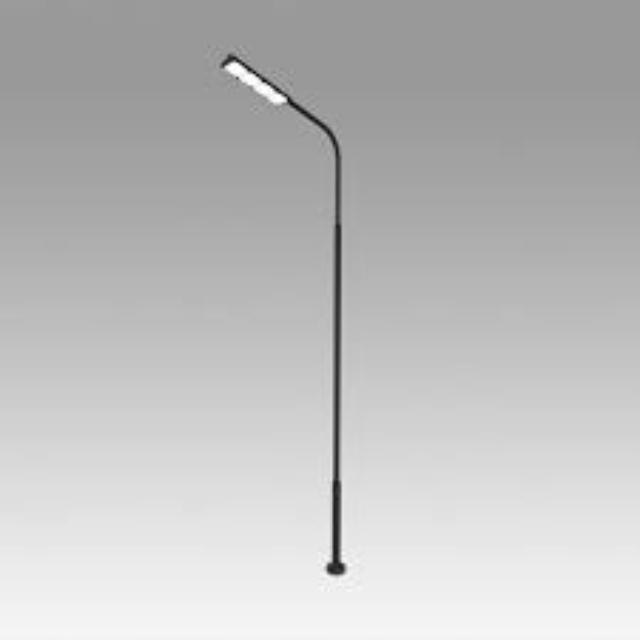Street-Lamp: (195, 35, 375, 599)
